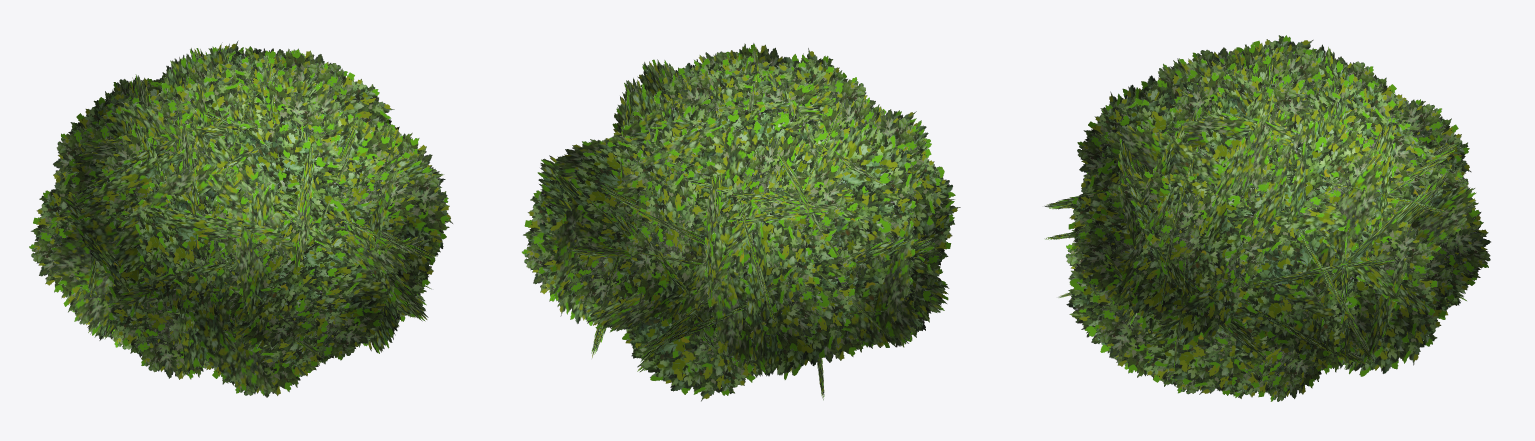
The model's file is Bush2.fbx.
3 renders of one model, left to right at view 1: azimuth 30°, elevation 25°; view 2: azimuth 150°, elevation 25°; view 3: azimuth 270°, elevation 25°, orthographic. The views are drawn at different scales.
Parts seen in each view (by area): view 1: Bush; view 2: Bush; view 3: Bush.
Boxes of the visible parts, x1=… form: Bush: x1=29, y1=40, x2=452, y2=397; Bush: x1=521, y1=43, x2=960, y2=401; Bush: x1=1044, y1=35, x2=1490, y2=401.
Bounding box in the file's own units: 2.41 × 1.92 × 2.55.
